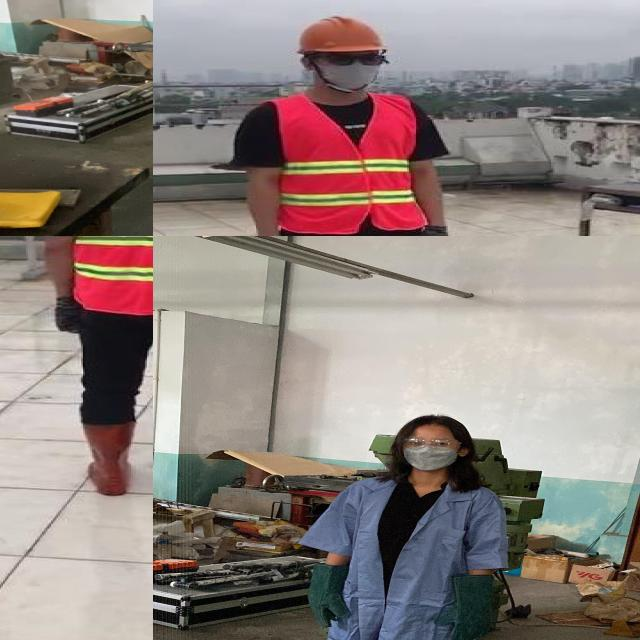boots: (74, 418, 138, 497)
face_mask: (315, 48, 382, 90), (402, 435, 462, 468)
glasses: (321, 48, 387, 68), (399, 436, 465, 451)
hand_glove: (302, 583, 360, 631), (428, 600, 496, 640), (53, 294, 83, 334), (416, 228, 455, 236)
head_helmet: (292, 13, 385, 54)
head_nohelmet: (397, 412, 471, 436)
person: (284, 408, 516, 640), (233, 13, 447, 236), (31, 236, 153, 507)
vest: (268, 92, 426, 232), (54, 236, 153, 312)
